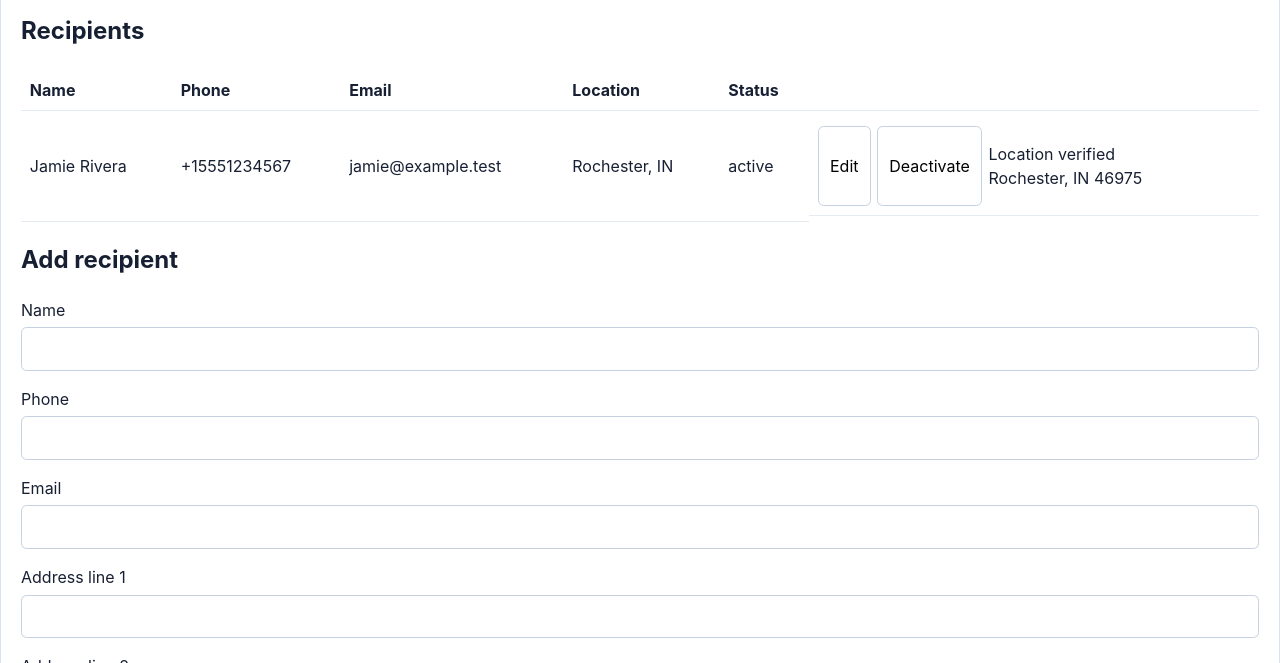
RecipientsView › shows a location-verified confirmation after a successful geocoded save, without geocoder internals
This screenshot has width=1280, height=663.
Expected: the text "Jamie Rivera" is shown, [21, 111, 172, 221]
Type "New Person" into the field labelled "Name".
click(640, 349); type("New Person")  # box [21, 327, 1259, 371]
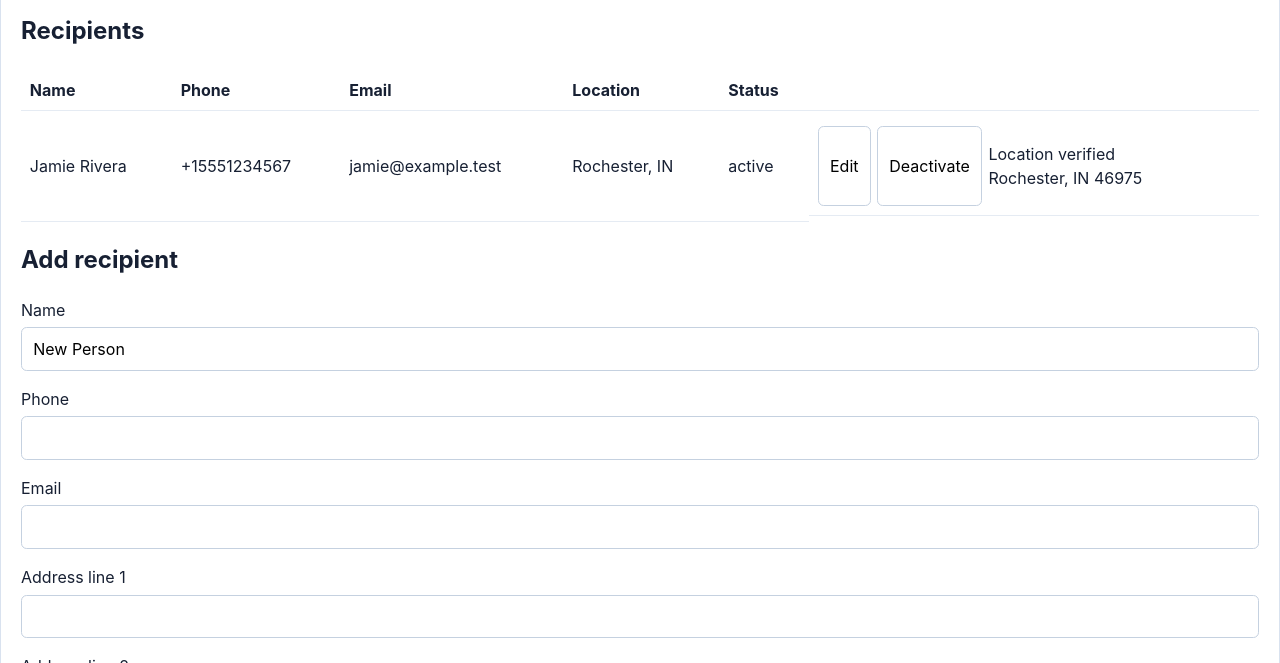
Type "456 Oak Ave" into the field labelled "Address line 1".
click(640, 616); type("456 Oak Ave")  # box [21, 595, 1259, 638]
(page scrolled)
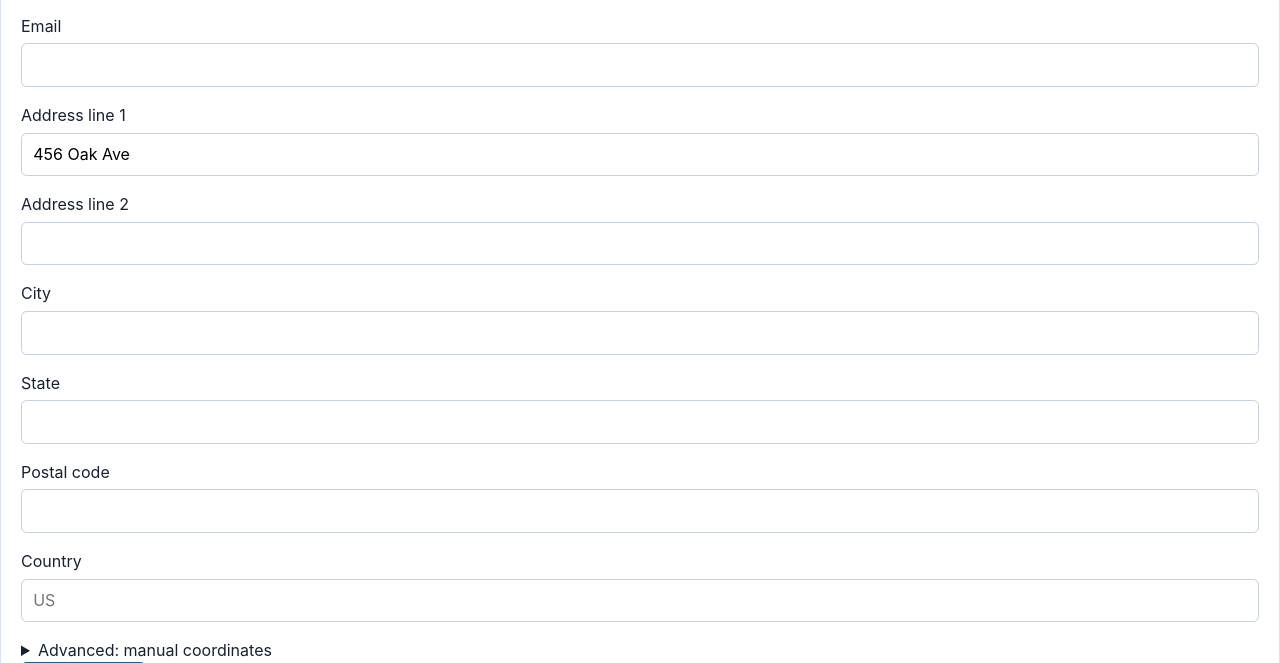
Type "Fort Wayne" into the field labelled "City".
click(640, 333); type("Fort Wayne")  # box [21, 311, 1259, 355]
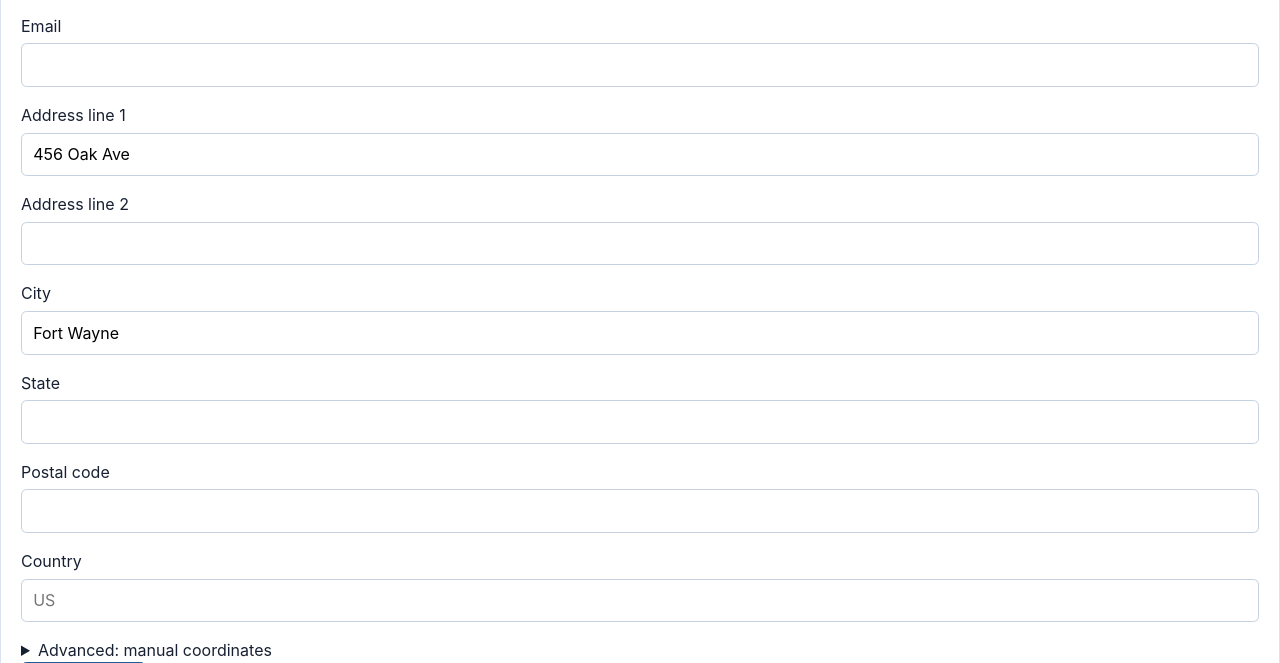
Type "IN" into the field labelled "State".
click(640, 422); type("IN")  # box [21, 400, 1259, 444]
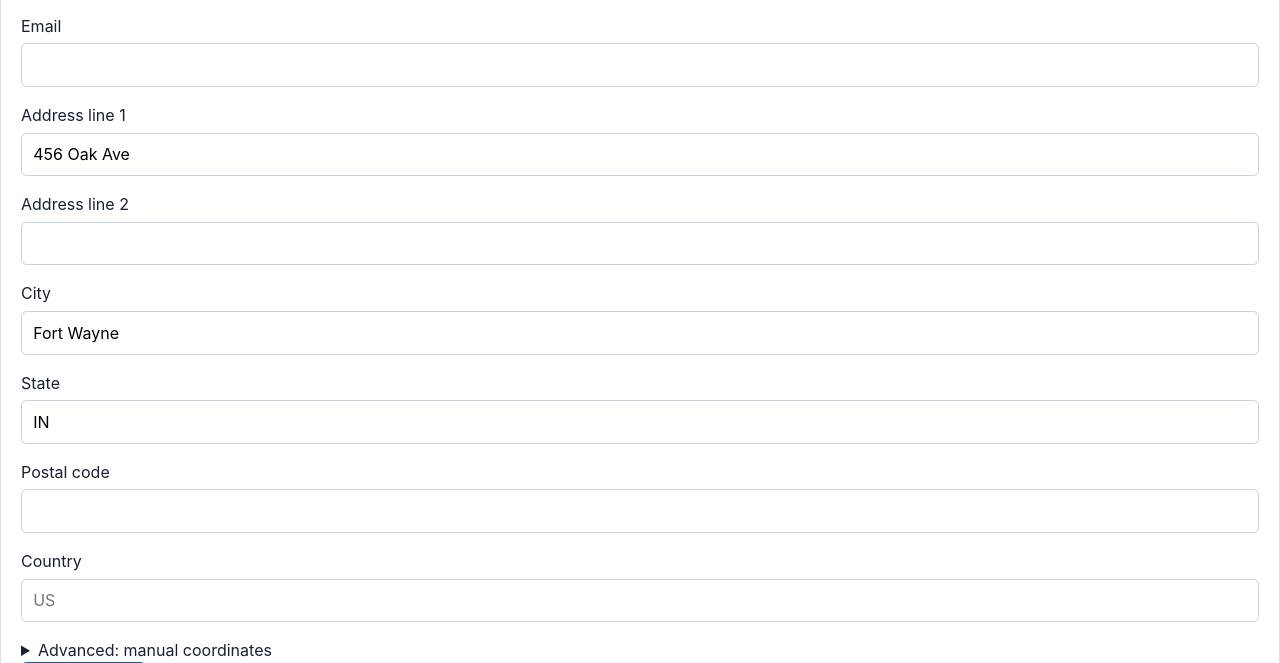
Type "46802" into the field labelled "Postal code".
click(640, 511); type("46802")  # box [21, 489, 1259, 533]
(page scrolled)
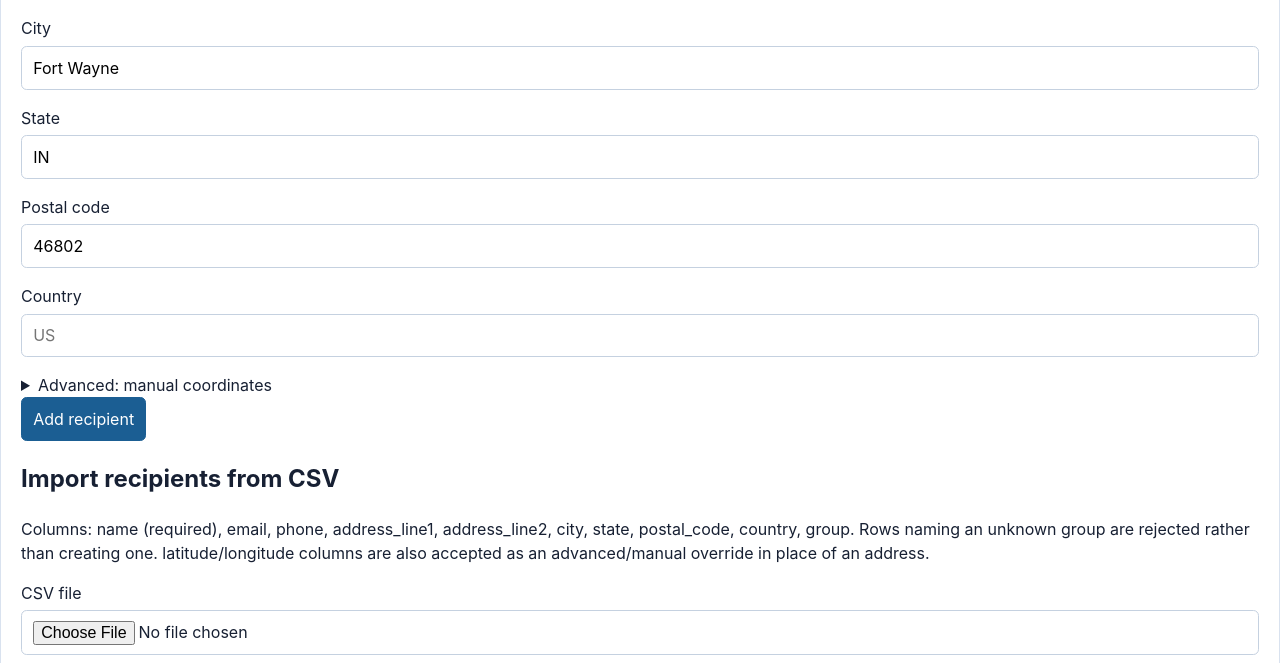
Click the button "Add recipient".
click(84, 419)  # box [21, 397, 146, 441]
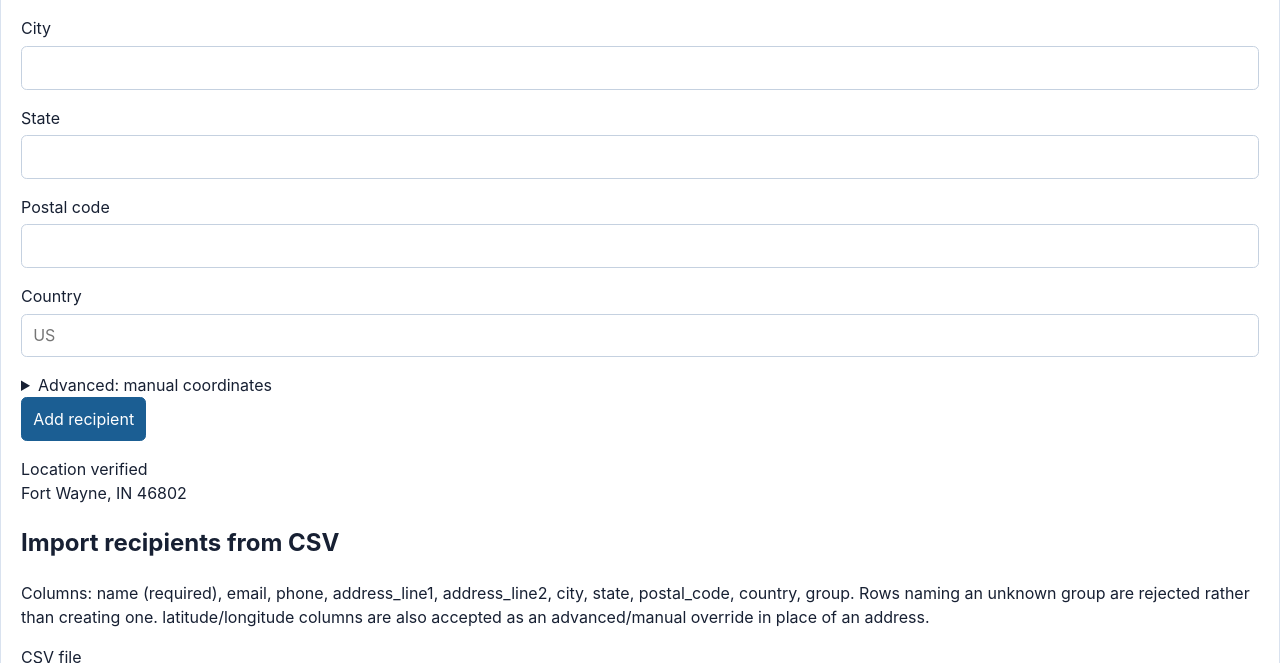
Now the text "Location verified" is shown, box [21, 459, 148, 479]
Now the text "Fort Wayne, IN 46802" is shown, box [21, 459, 187, 503]
